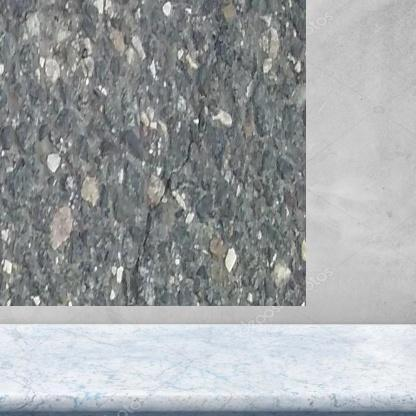Cracks: (116, 116, 183, 283)
